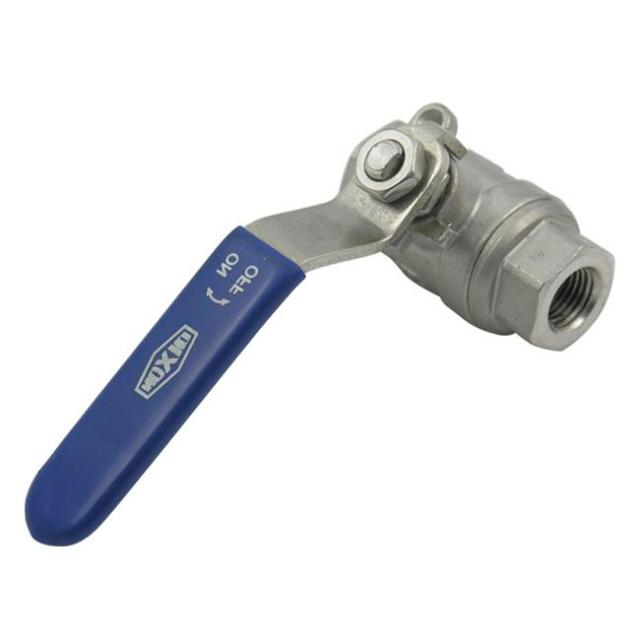closed_valve: (21, 97, 622, 551)
